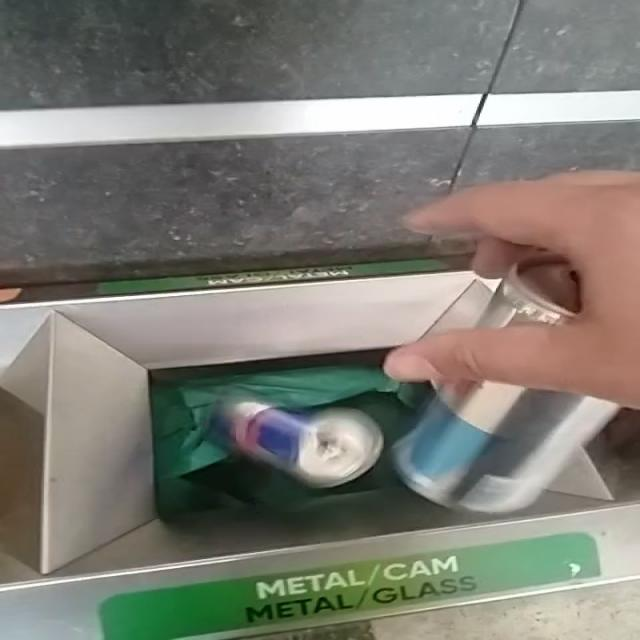bin: (1, 271, 639, 640)
metal: (224, 402, 384, 488)
